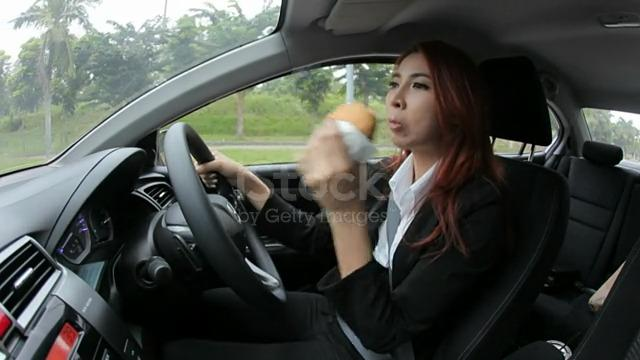Eating: (285, 45, 498, 213)
